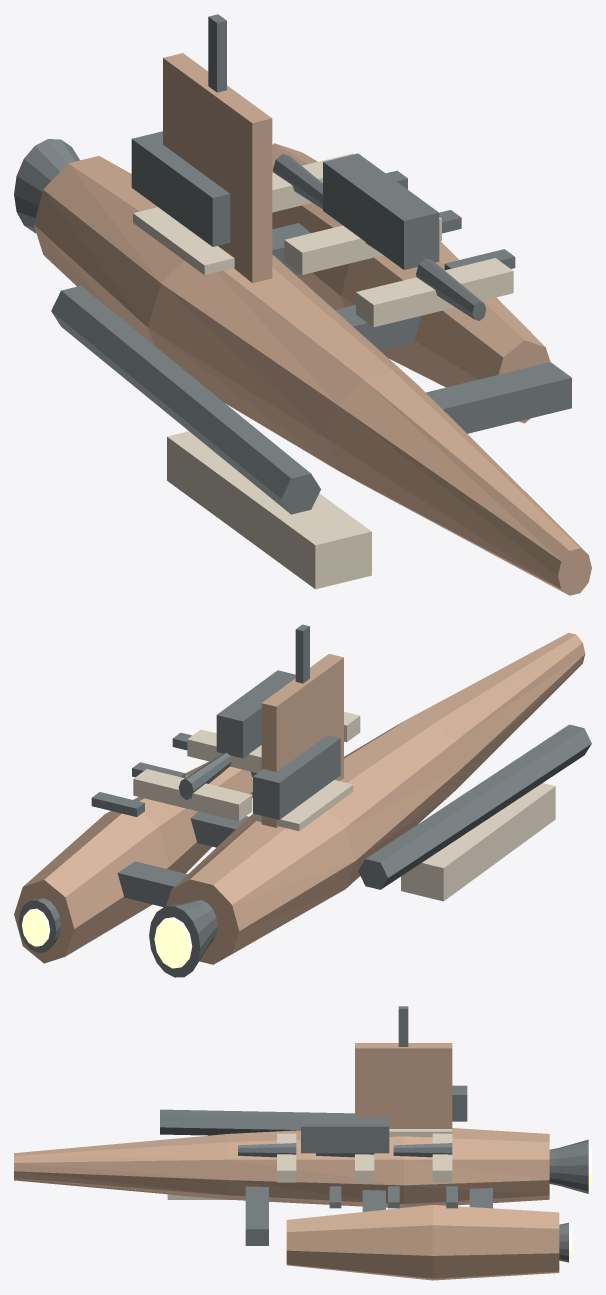
The picture shows the model from 3 angles, top to bottom: view 1: azimuth 30°, elevation 25°; view 2: azimuth 150°, elevation 25°; view 3: azimuth 270°, elevation 25°; orthographic projection. The views are drawn at different scales.
Size of the model in its own units: 7 by 6.58 by 15.7.
